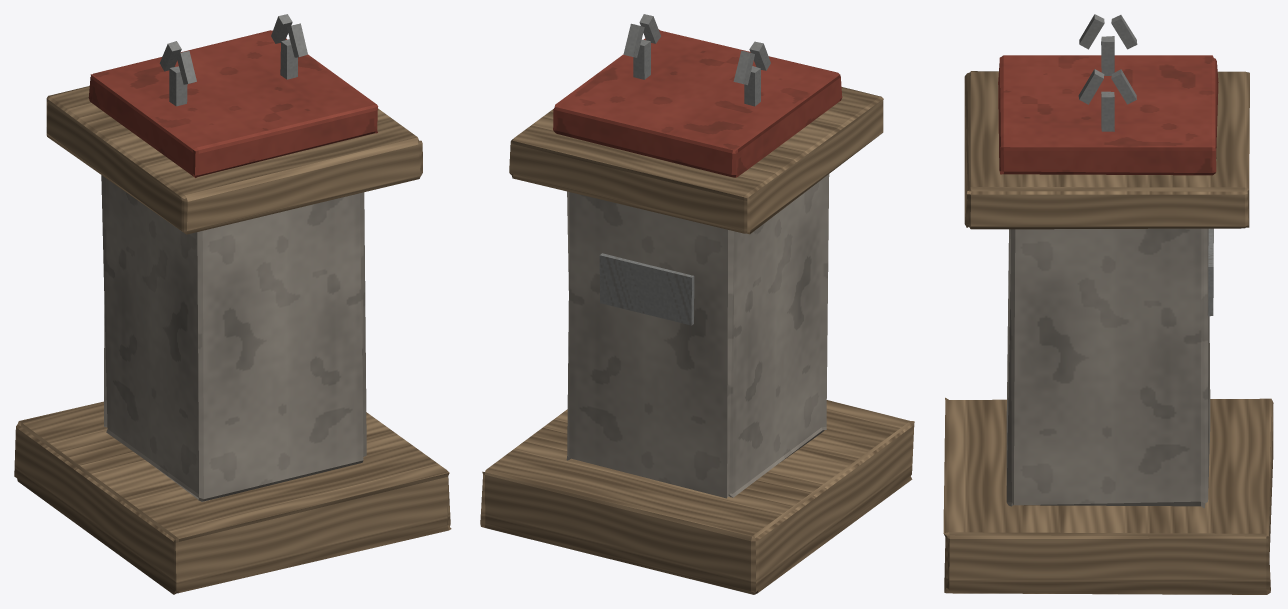
The model's file is display_stand.glb.
The picture shows the model from 3 angles, left to right: view 1: azimuth 30°, elevation 25°; view 2: azimuth 150°, elevation 25°; view 3: azimuth 270°, elevation 25°; orthographic projection. The views are drawn at different scales.
Visible parts, largest first — view 1: DisplayStand; view 2: DisplayStand; view 3: DisplayStand.
Part boxes in pixels (x1,y1,x2,y2): DisplayStand: (14,14,451,594); DisplayStand: (480,14,914,594); DisplayStand: (943,14,1273,594).
Size of the model in its own units: 0.8439 by 1.37 by 0.8481.
Materials: 4 (4 with a texture image).
